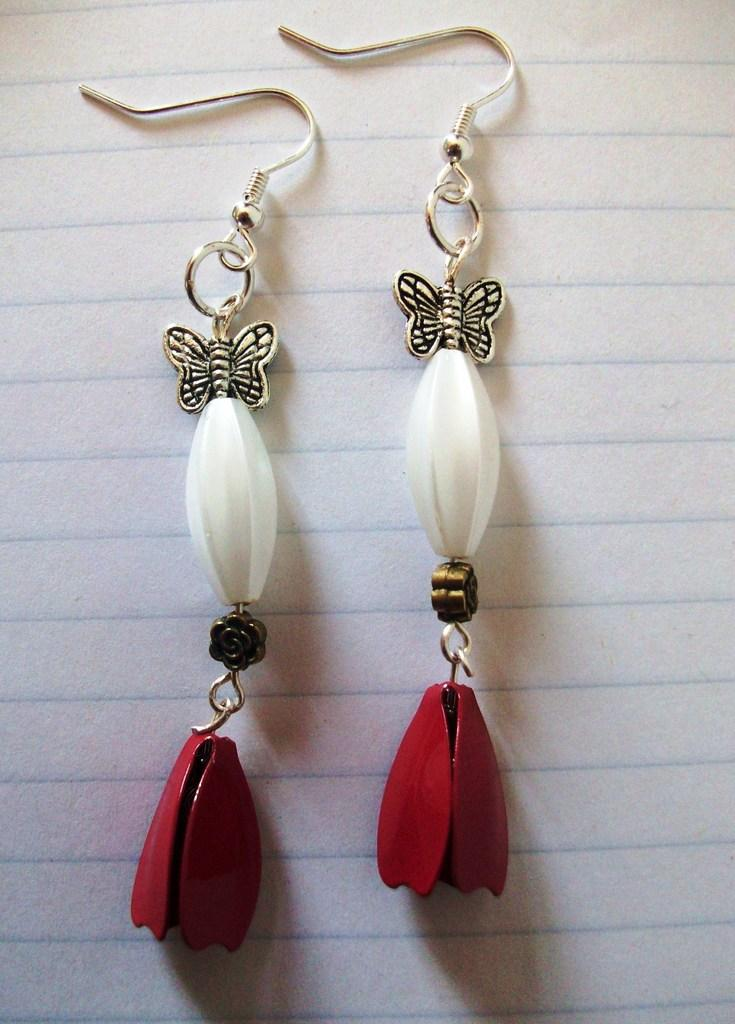earring: (61, 81, 315, 959), (269, 16, 519, 899)
